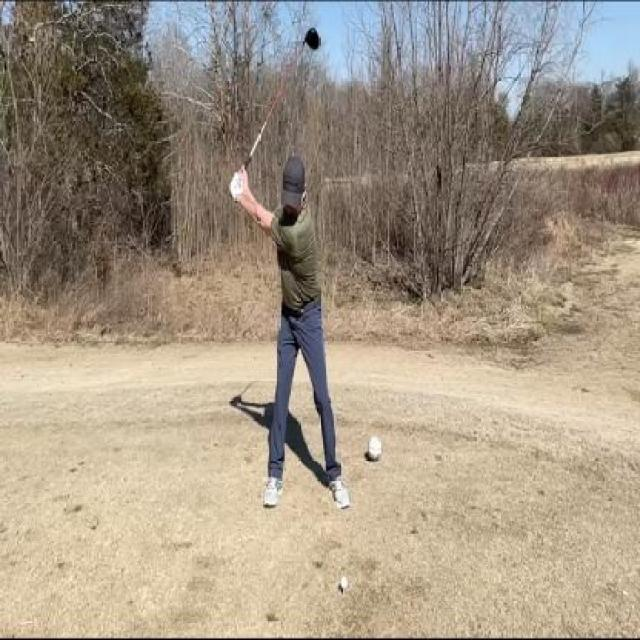club head: (301, 23, 322, 54)
